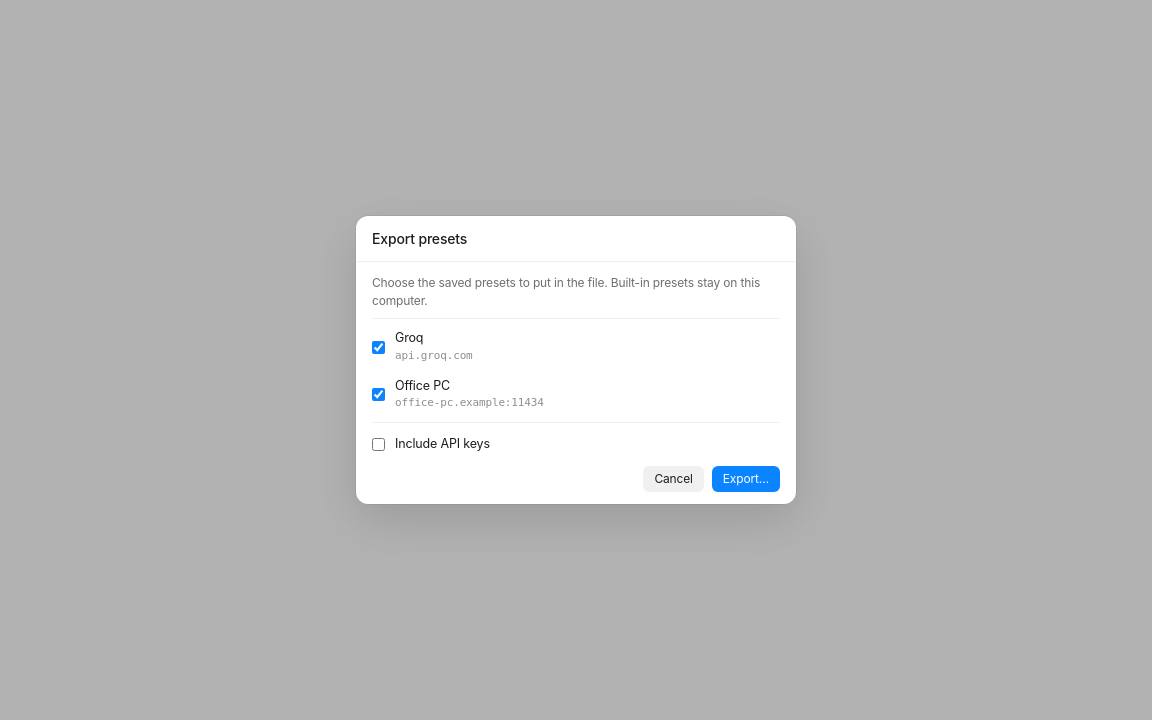
it: export options › cannot export with nothing ticked
Click the checkbox labelled "Groq api.groq.com" at (378, 347), box [372,340,385,354]
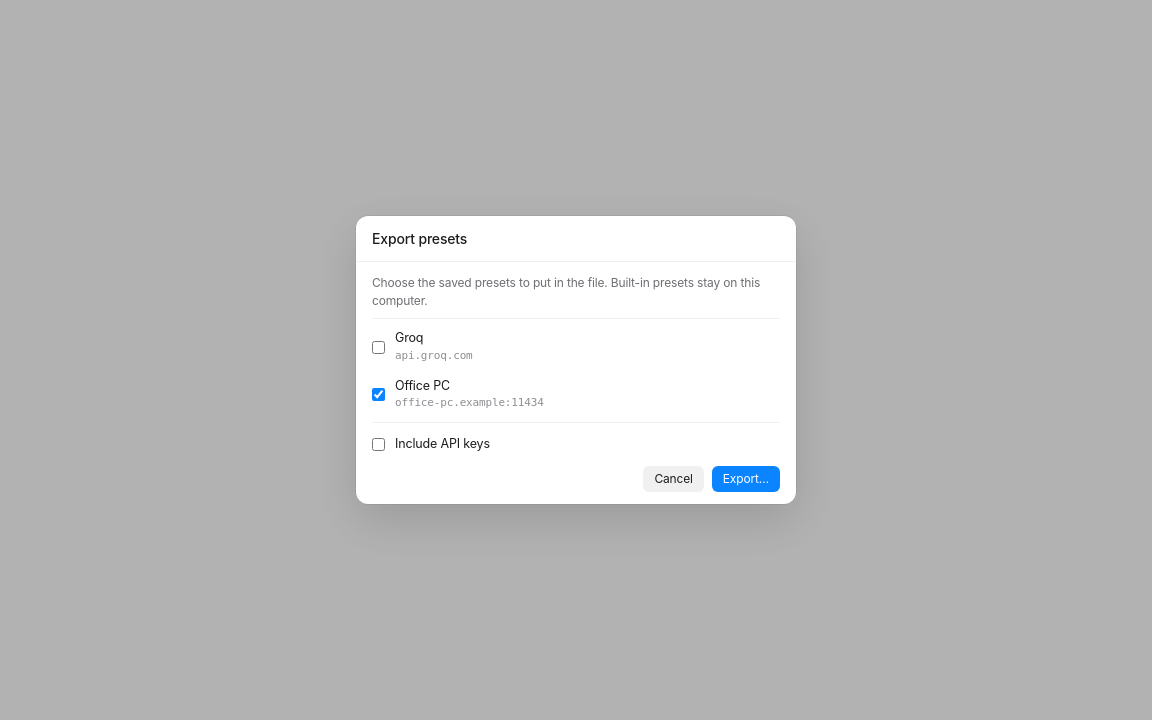
Click the checkbox labelled "Office PC office-pc.example:11434" at (378, 394), box [372,388,385,401]
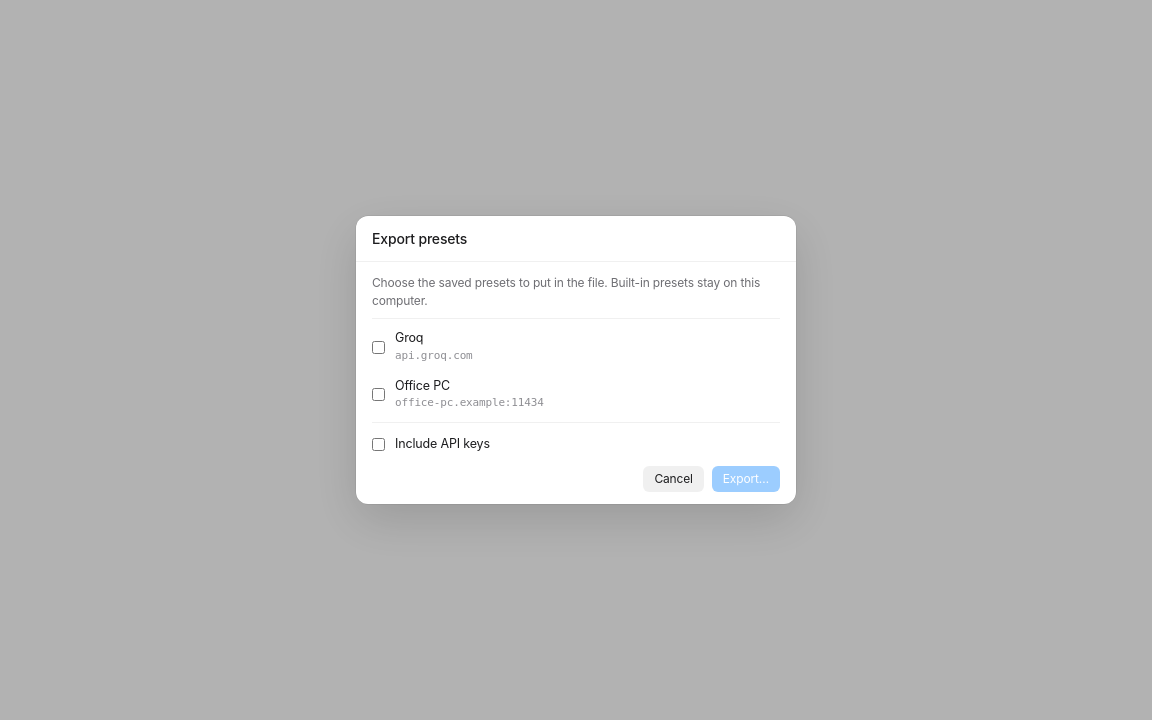
Check: the button "Export…" is disabled, box [712,466,780,492]
